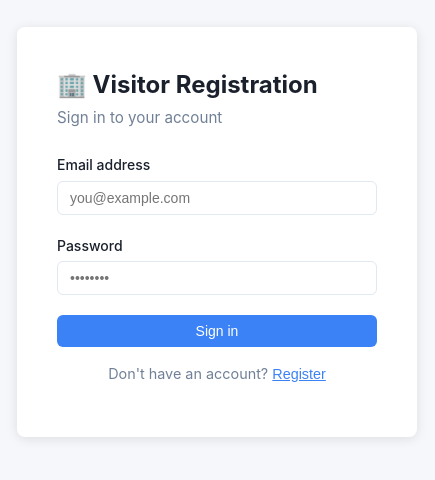
it: LoginComponent › should show "Email is required" error when form submitted empty
Click the button with test id "submit-btn" at [217, 331], box [57,315,377,347]
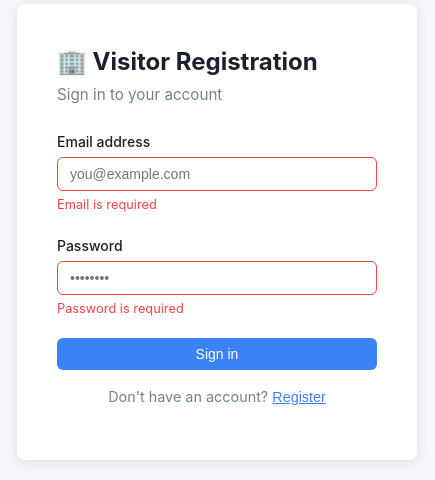
Check: the text with test id "email-error" reads "Email is required", box [57,197,157,212]
